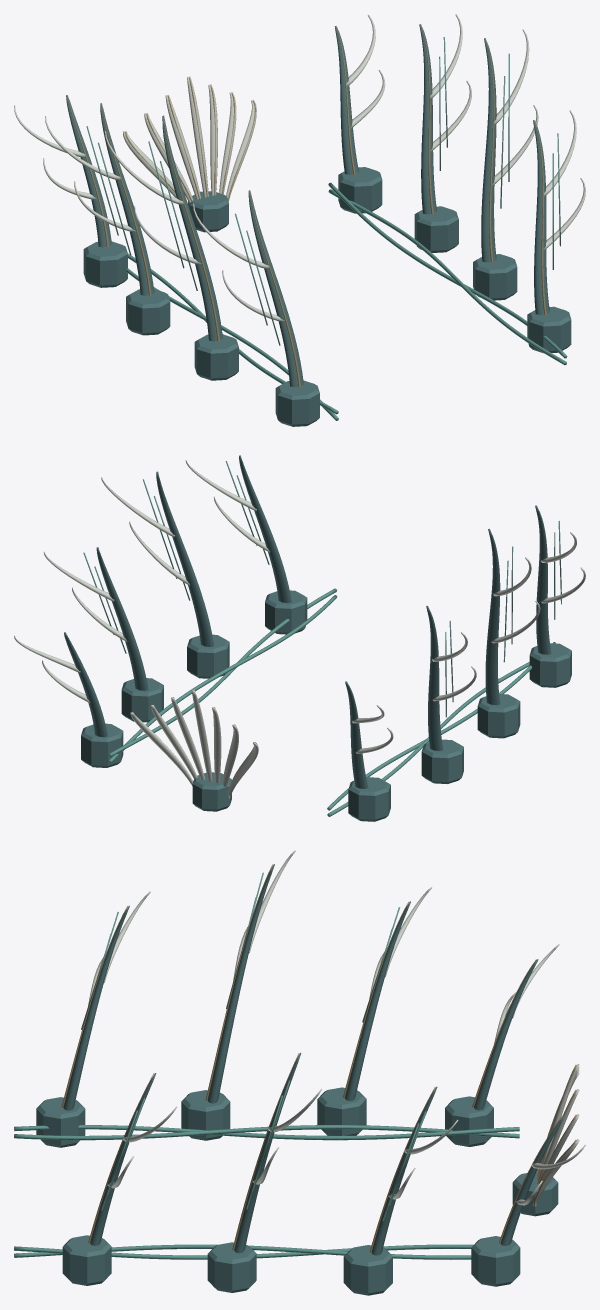
The model's file is tideweave-crossing.glb.
3 views of the same model, one above another, from view 1: azimuth 30°, elevation 25°; view 2: azimuth 150°, elevation 25°; view 3: azimuth 270°, elevation 25° (orthographic). The views are drawn at different scales.
Parts seen in each view (by area): view 1: TideweaveCrossing | Tideweave | mineral, TideweaveCrossing | Tideweave | porcelain, TideweaveCrossing | Tideweave | patinated bronze, TideweaveCrossing | Tideweave | aged brass; view 2: TideweaveCrossing | Tideweave | mineral, TideweaveCrossing | Tideweave | porcelain, TideweaveCrossing | Tideweave | patinated bronze; view 3: TideweaveCrossing | Tideweave | mineral, TideweaveCrossing | Tideweave | patinated bronze, TideweaveCrossing | Tideweave | porcelain, TideweaveCrossing | Tideweave | aged brass.
Boxes of the visible parts, x1,y1,x2,y2 form: TideweaveCrossing | Tideweave | mineral: (66,24,571,426); TideweaveCrossing | Tideweave | porcelain: (14,14,585,321); TideweaveCrossing | Tideweave | patinated bronze: (86,37,567,420); TideweaveCrossing | Tideweave | aged brass: (67,25,546,386); TideweaveCrossing | Tideweave | mineral: (64,455,571,821); TideweaveCrossing | Tideweave | porcelain: (14,460,585,798); TideweaveCrossing | Tideweave | patinated bronze: (83,461,561,816); TideweaveCrossing | Tideweave | mineral: (36,864,564,1295); TideweaveCrossing | Tideweave | patinated bronze: (14,872,519,1259); TideweaveCrossing | Tideweave | porcelain: (88,850,585,1206); TideweaveCrossing | Tideweave | aged brass: (61,864,576,1252).
Size of the model in its own units: 6.11 by 3.25 by 6.51.
